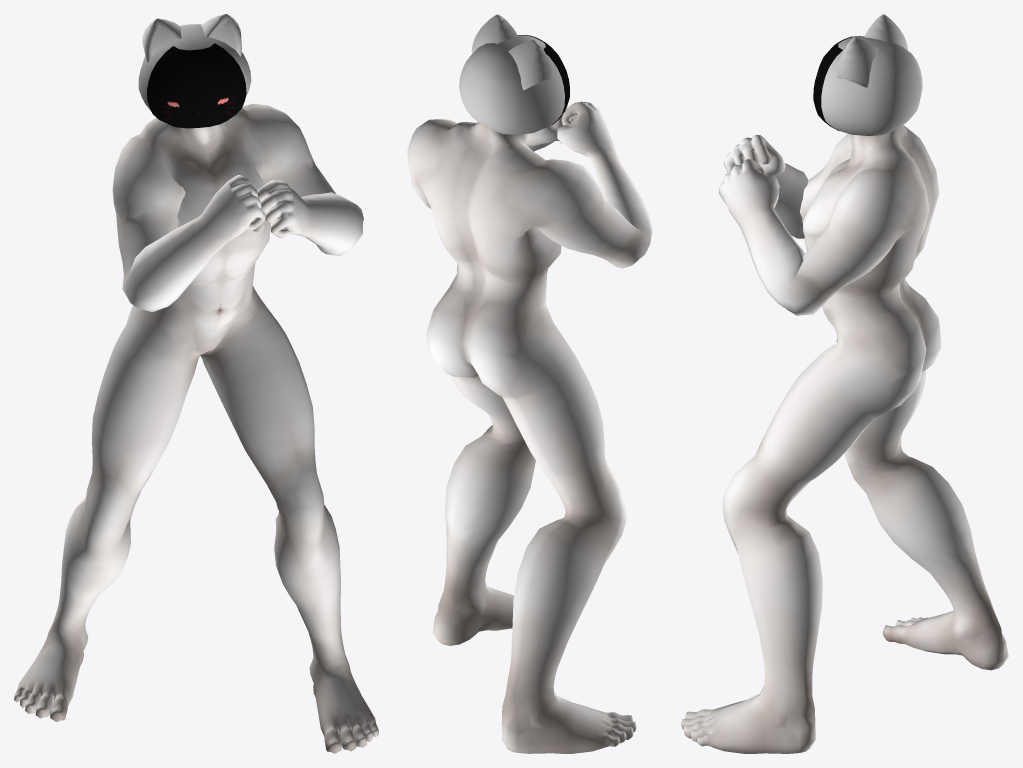
The picture shows the model from 3 angles, left to right: view 1: azimuth 30°, elevation 25°; view 2: azimuth 150°, elevation 25°; view 3: azimuth 270°, elevation 25°; orthographic projection. The views are drawn at different scales.
Parts seen in each view (by area): view 1: Muscle_Body, ______?001, Cat_Head; view 2: Muscle_Body, Cat_Head, ______?001; view 3: Muscle_Body, Cat_Head, ______?001.
Part boxes in pixels (bbox=[...]): Muscle_Body: bbox=[14, 103, 378, 753]; ______?001: bbox=[147, 43, 246, 128]; Cat_Head: bbox=[138, 14, 251, 111]; Muscle_Body: bbox=[407, 101, 652, 753]; Cat_Head: bbox=[459, 14, 564, 134]; ______?001: bbox=[518, 35, 569, 127]; Muscle_Body: bbox=[681, 125, 1008, 753]; Cat_Head: bbox=[821, 14, 922, 135]; ______?001: bbox=[813, 36, 860, 130].
Size of the model in its own units: 11.71 by 27.83 by 12.21.
